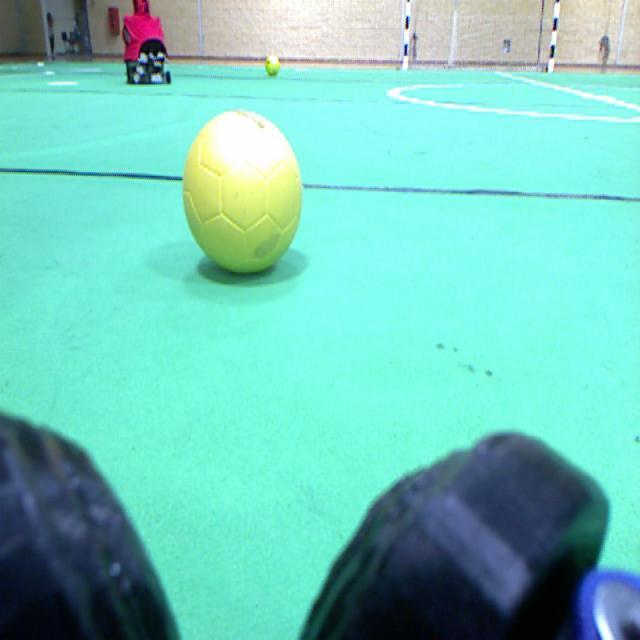ball: (183, 111, 301, 272), (265, 55, 279, 75)
robot: (122, 0, 170, 83)
